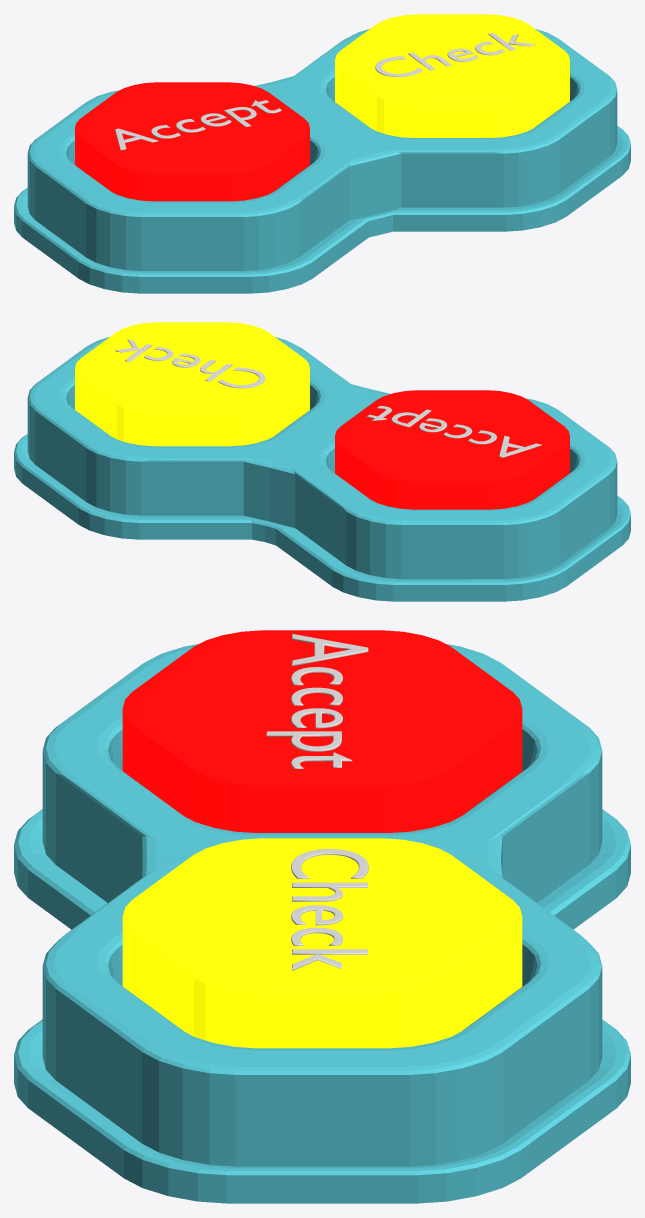
The model's file is acceptanim.fbx.
The picture shows the model from 3 angles, top to bottom: view 1: azimuth 30°, elevation 25°; view 2: azimuth 150°, elevation 25°; view 3: azimuth 270°, elevation 25°; orthographic projection. The views are drawn at different scales.
Visible parts, largest first — view 1: Cylinder.001, Cylinder, Cylinder.002; view 2: Cylinder.001, Cylinder, Cylinder.002; view 3: Cylinder.001, Cylinder, Cylinder.002.
Boxes of the visible parts, bbox=[...] form: Cylinder.001: bbox=[14, 29, 630, 293]; Cylinder: bbox=[335, 14, 569, 137]; Cylinder.002: bbox=[75, 82, 309, 201]; Cylinder.001: bbox=[14, 337, 630, 601]; Cylinder: bbox=[75, 322, 309, 446]; Cylinder.002: bbox=[335, 390, 569, 509]; Cylinder.001: bbox=[14, 644, 630, 1203]; Cylinder: bbox=[122, 838, 522, 1048]; Cylinder.002: bbox=[122, 630, 522, 832].
Bounding box in the file's own units: 501 × 92.19 × 290.
